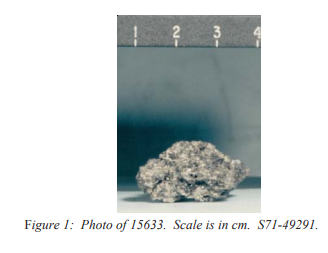Basalt: (118, 141, 253, 207)
